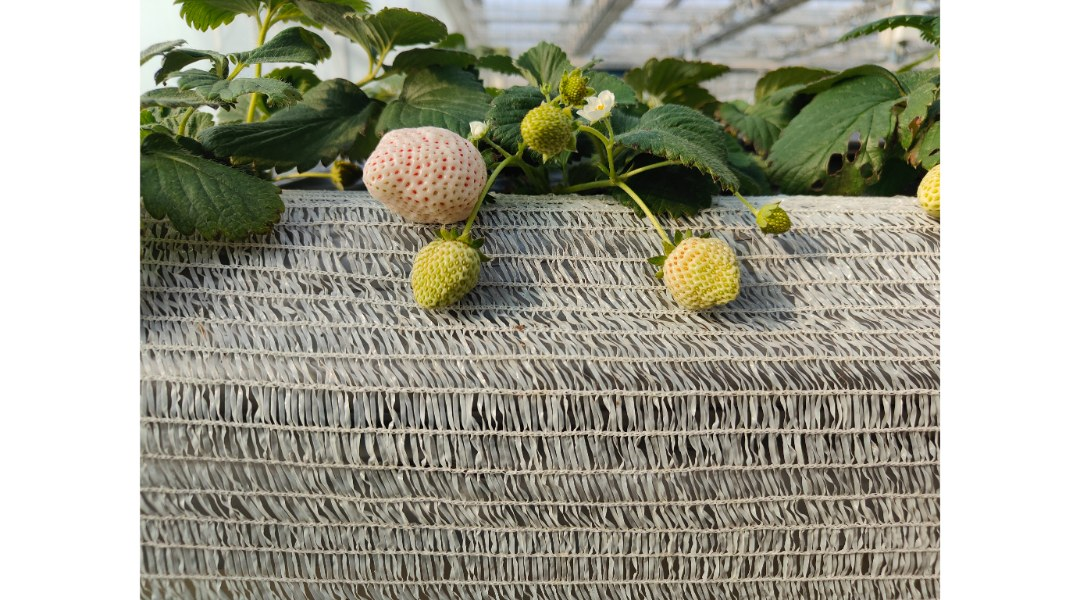berry: (357, 123, 485, 224), (654, 219, 743, 312), (403, 237, 492, 307), (517, 103, 577, 159), (757, 193, 810, 235)
flower: (582, 89, 619, 122)
strain: (467, 163, 507, 231), (619, 188, 668, 237), (624, 150, 688, 178), (733, 189, 757, 217), (561, 182, 606, 194), (601, 148, 615, 181), (582, 127, 608, 141)
